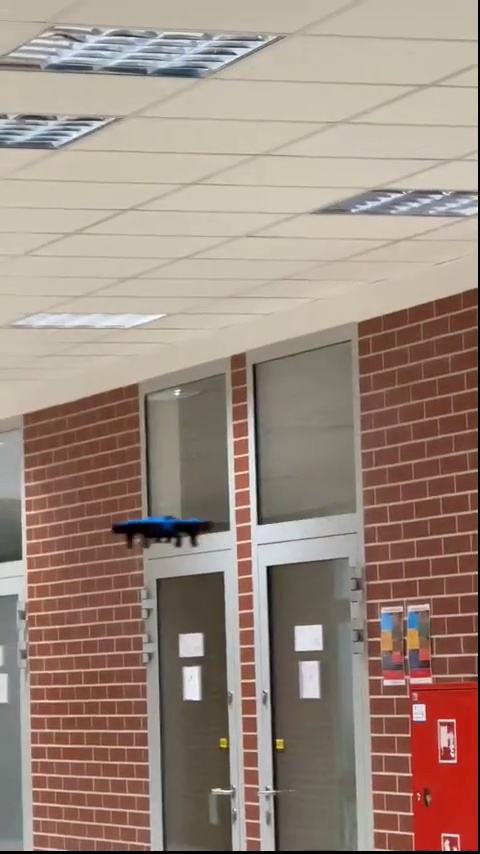drone: (110, 514, 216, 559)
